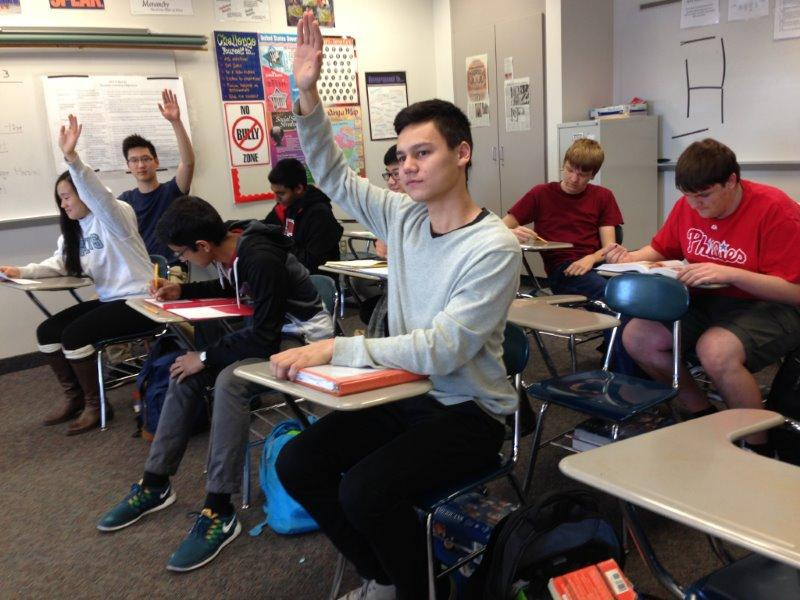study: (277, 9, 518, 375), (39, 113, 140, 284), (113, 88, 199, 229)
